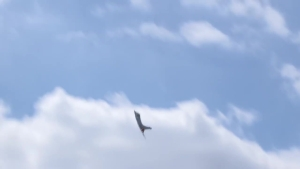flight: (133, 109, 152, 139)
